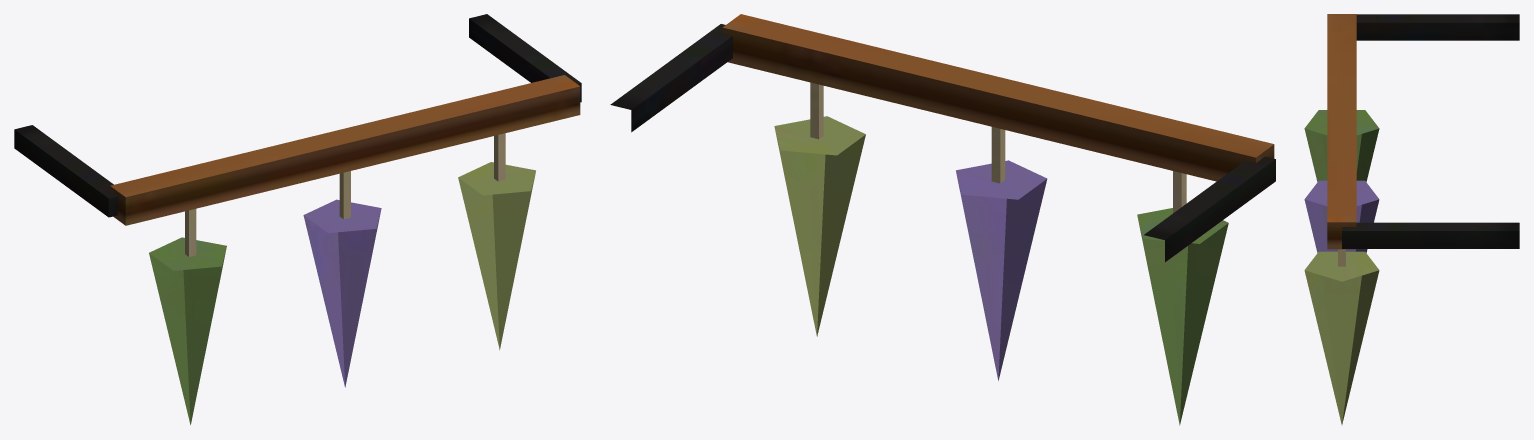
Rendered from herb_bundles.glb.
3 renders of one model, left to right at view 1: azimuth 30°, elevation 25°; view 2: azimuth 150°, elevation 25°; view 3: azimuth 270°, elevation 25°, orthographic. The views are drawn at different scales.
Parts seen in each view (by area): view 1: props_0_0; view 2: props_0_0; view 3: props_0_0.
Boxes of the visible parts, bbox=[...] form: props_0_0: bbox=[14, 14, 581, 424]; props_0_0: bbox=[610, 14, 1275, 425]; props_0_0: bbox=[1304, 14, 1519, 424].
Size of the model in its own units: 0.52 by 0.265 by 0.218.
Materials: 2 (2 with a texture image).
